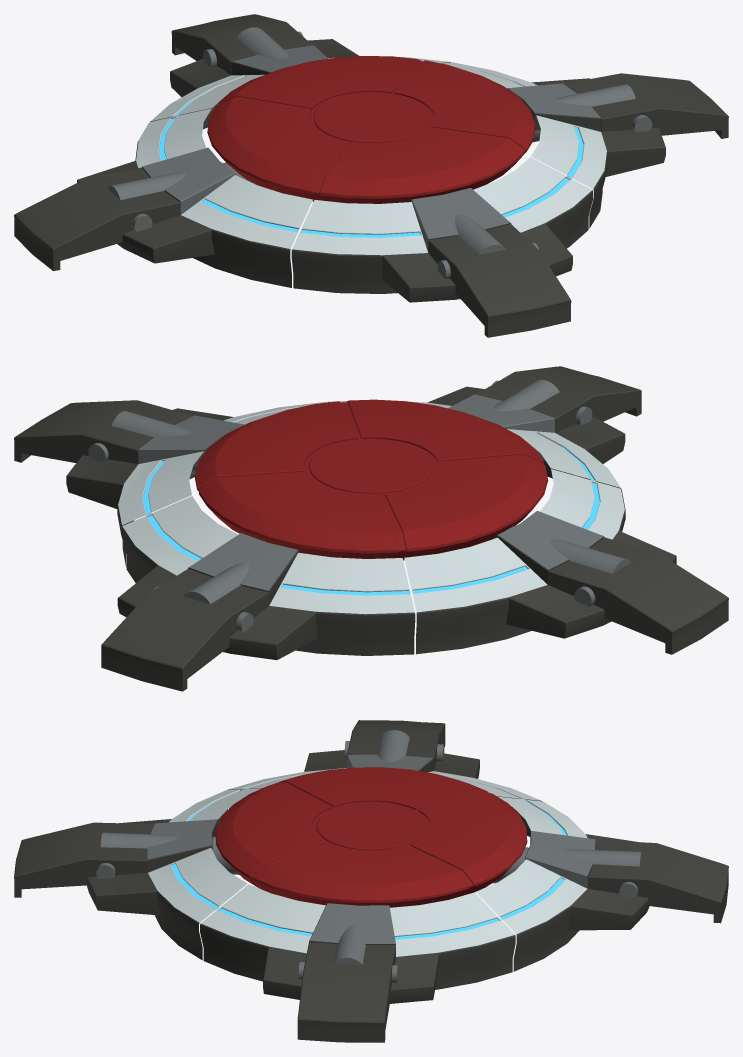
Rendered from Target.fbx.
3 renders of one model, top to bottom at view 1: azimuth 30°, elevation 25°; view 2: azimuth 150°, elevation 25°; view 3: azimuth 270°, elevation 25°, orthographic. The views are drawn at different scales.
Parts seen in each view (by area): view 1: Circle, Circle.001; view 2: Circle, Circle.001; view 3: Circle, Circle.001.
Part boxes in pixels (x1=…): Circle: x1=14, y1=14, x2=728, y2=337; Circle.001: x1=207, y1=56, x2=535, y2=203; Circle: x1=14, y1=366, x2=728, y2=691; Circle.001: x1=194, y1=399, x2=548, y2=560; Circle: x1=14, y1=720, x2=728, y2=1042; Circle.001: x1=215, y1=767, x2=527, y2=907.
Bounding box in the file's own units: 848 × 98.35 × 848.
